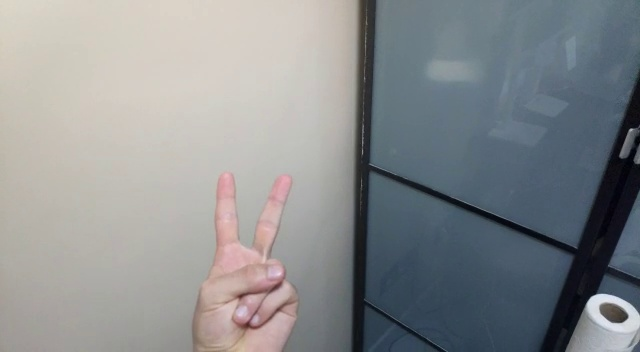Peace: (189, 162, 303, 352)
